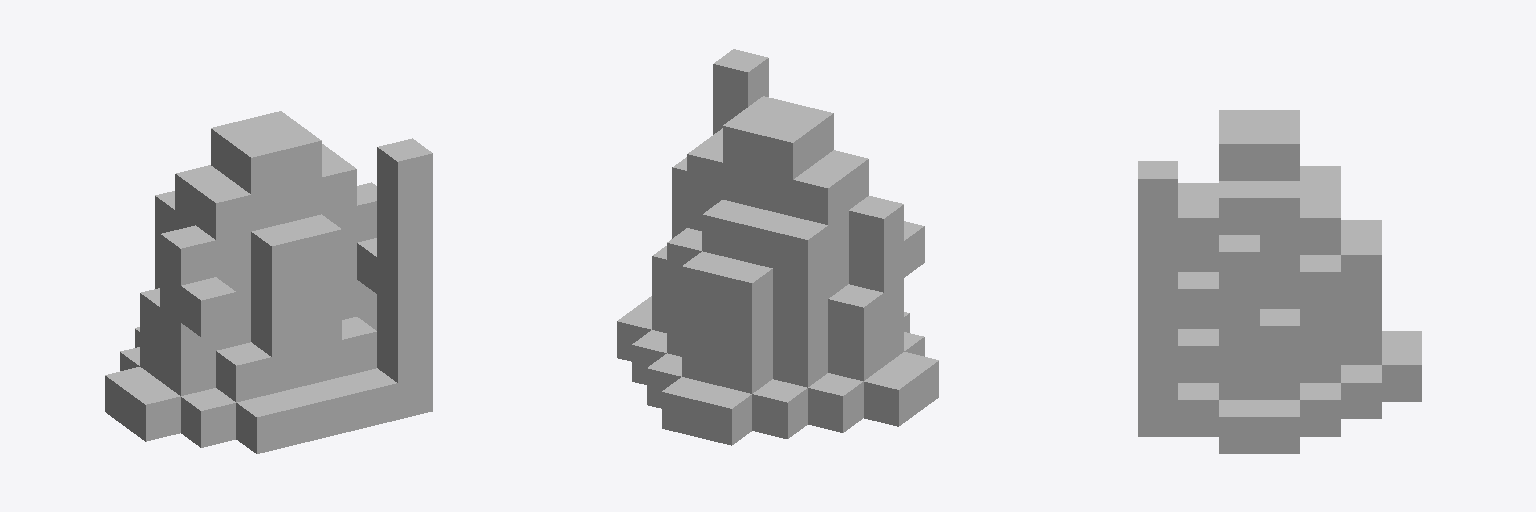
File: WIZZARD.obj
The picture shows the model from 3 angles: view 1: azimuth 30°, elevation 25°; view 2: azimuth 150°, elevation 25°; view 3: azimuth 270°, elevation 25°; orthographic projection.
Parts seen in each view (by area): view 1: Brown_Wool.005; view 2: Brown_Wool.005; view 3: Brown_Wool.005.
Part boxes in pixels (x1,y1,x2,y2): Brown_Wool.005: (105,111,432,453); Brown_Wool.005: (617,49,938,445); Brown_Wool.005: (1138,110,1421,453).
Size of the model in its own units: 0.8 by 0.7 by 0.7.